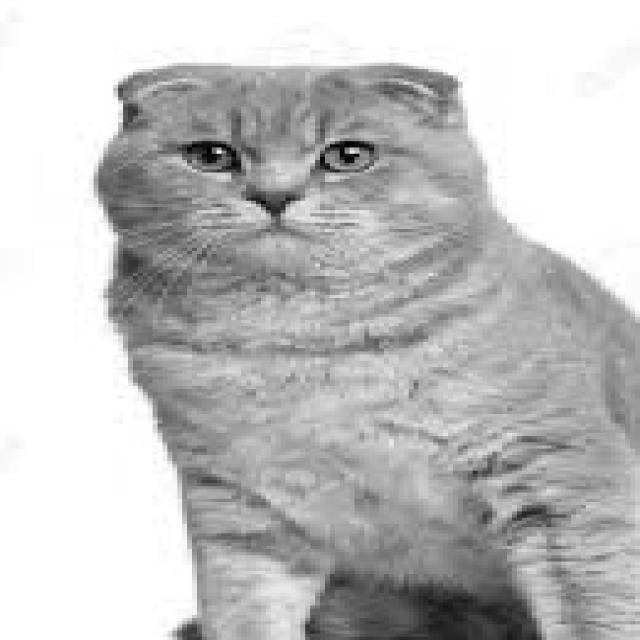scootish: (81, 43, 493, 295)
